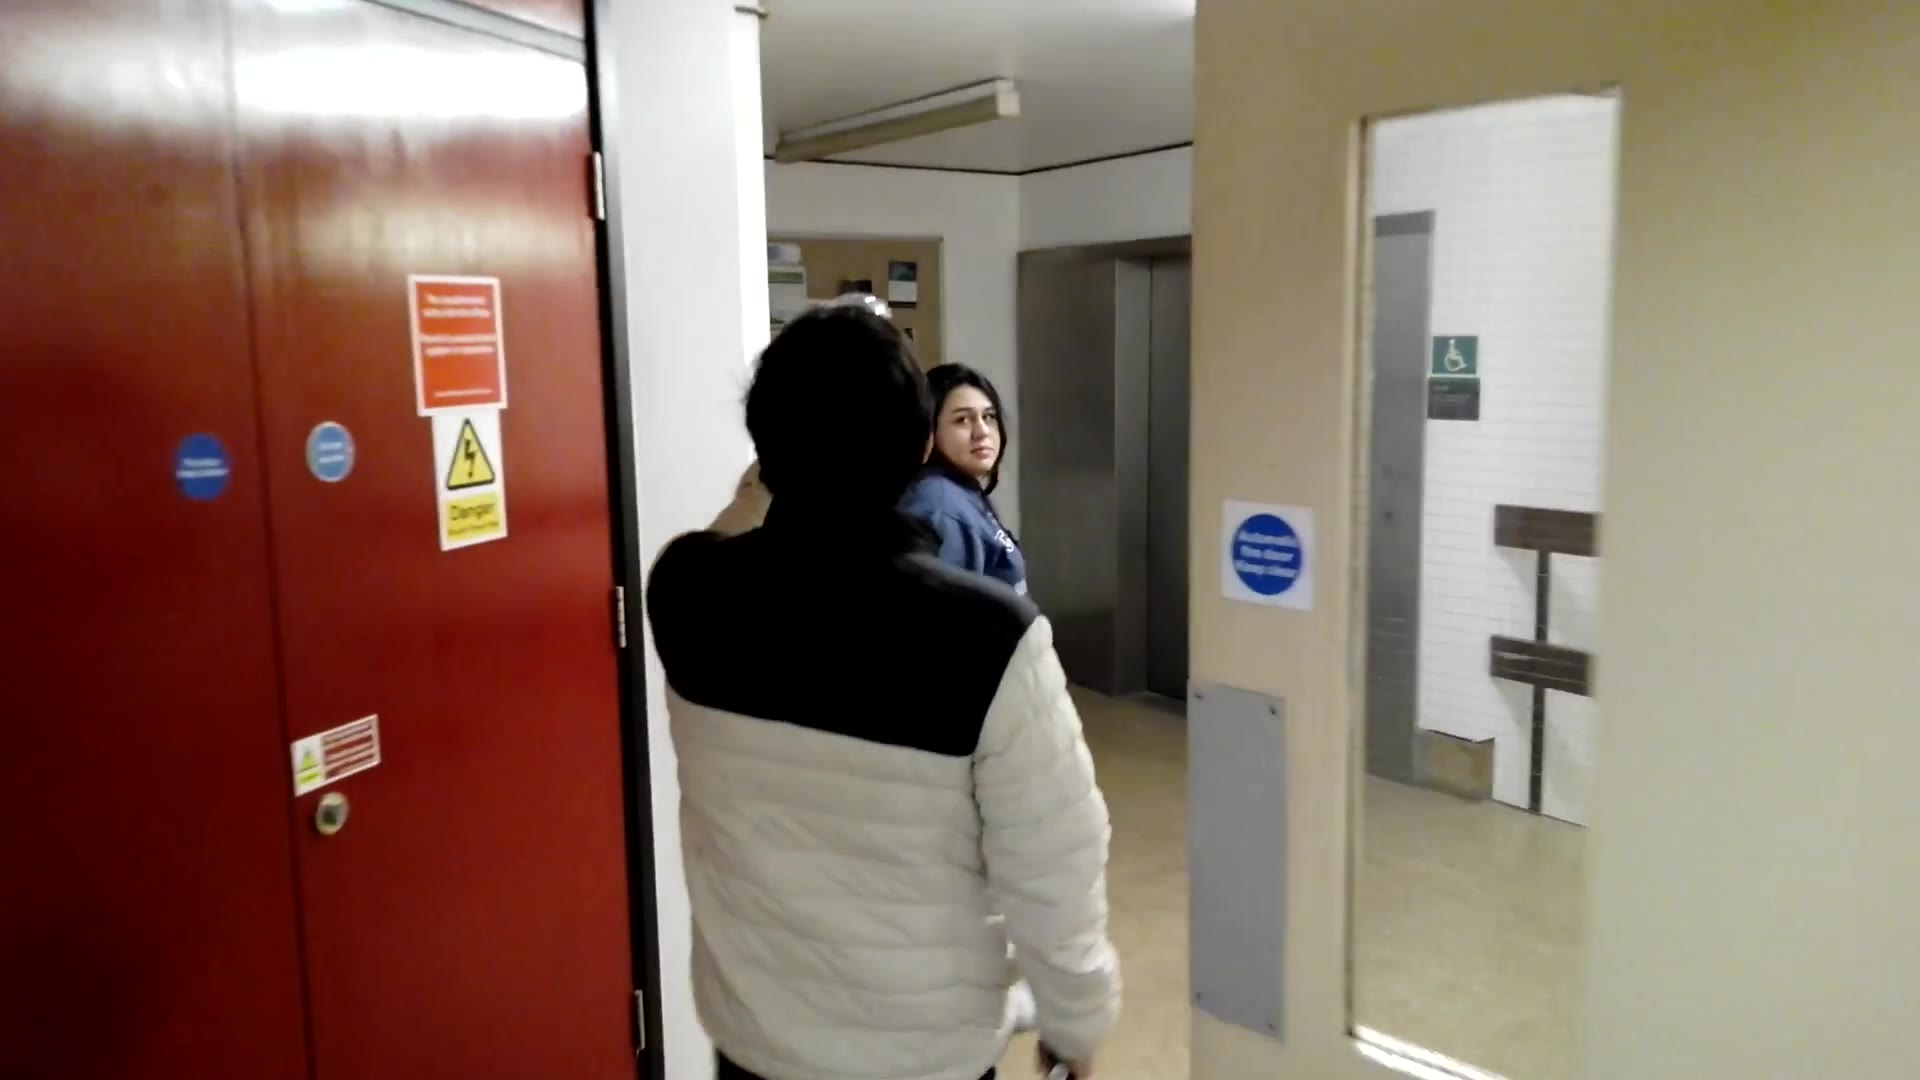Person: (696, 299, 925, 1080), (932, 354, 1032, 605)
